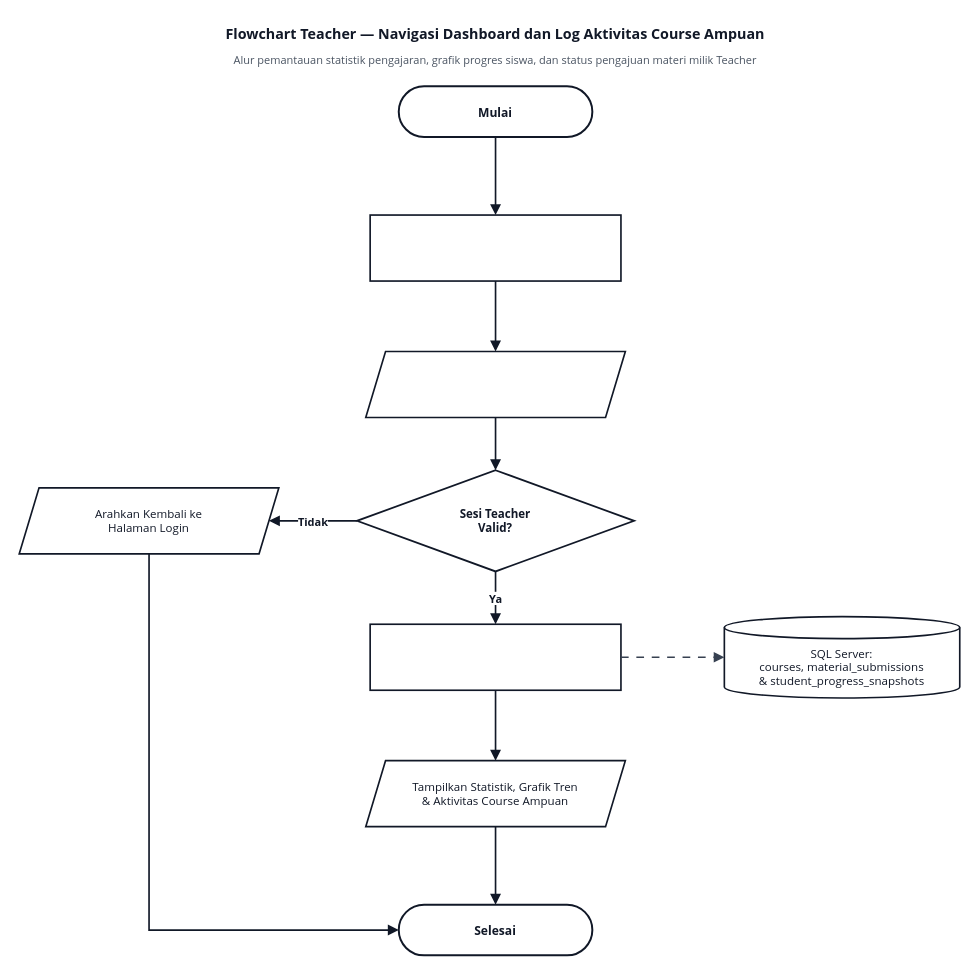
This 980x975 diagram has some shape labels left out. Each missing label, with the box of its shape:
Ambil Ringkasan Course Ampuan, Status Materi & Progres Siswa: (369, 623, 621, 691)
Buka Halaman Dashboard pada Akun Teacher: (369, 214, 621, 281)
Pilih Rentang Waktu Grafik (7 / 14 / 30 Hari) atau Muat Ulang: (364, 350, 626, 418)
